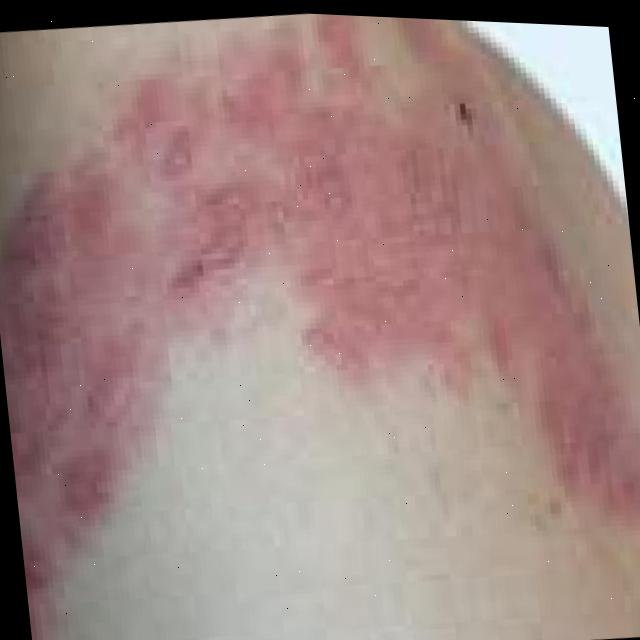Shingles: (0, 0, 640, 633)
